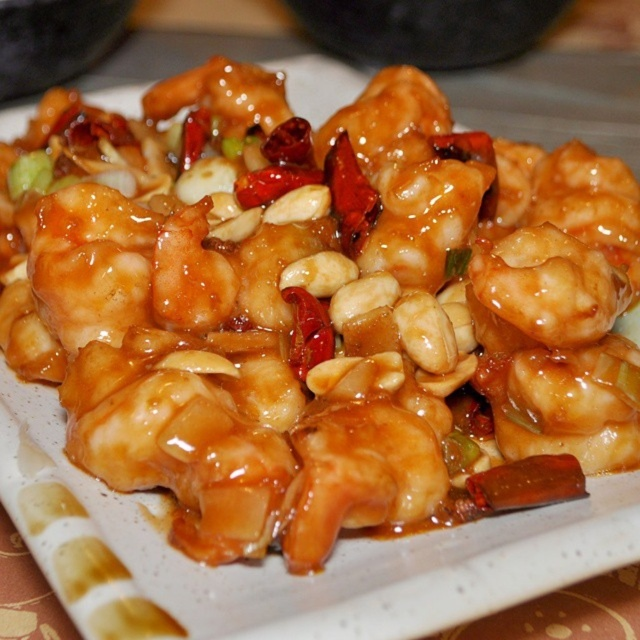Shrimp: (0, 52, 640, 577)
